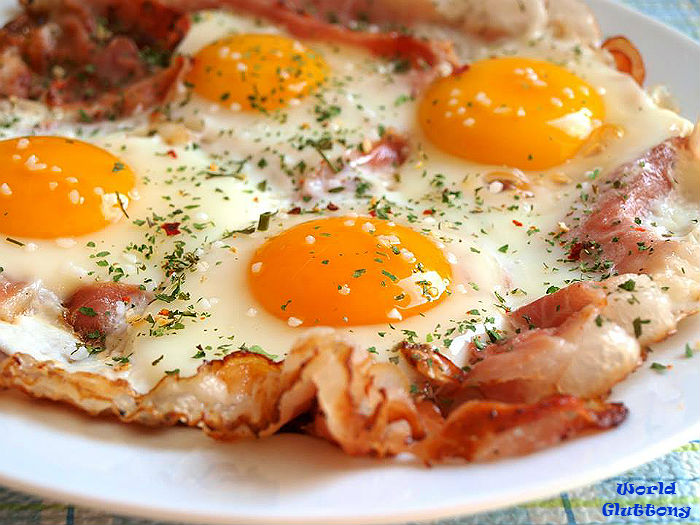fried egg: (51, 135, 525, 335), (183, 37, 585, 176)
